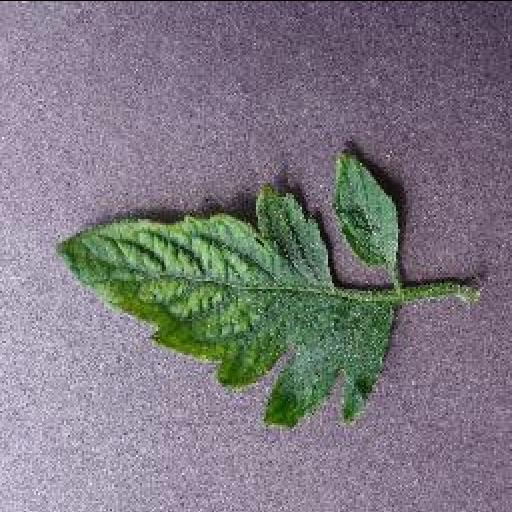disease_tomato: (46, 146, 410, 428)
